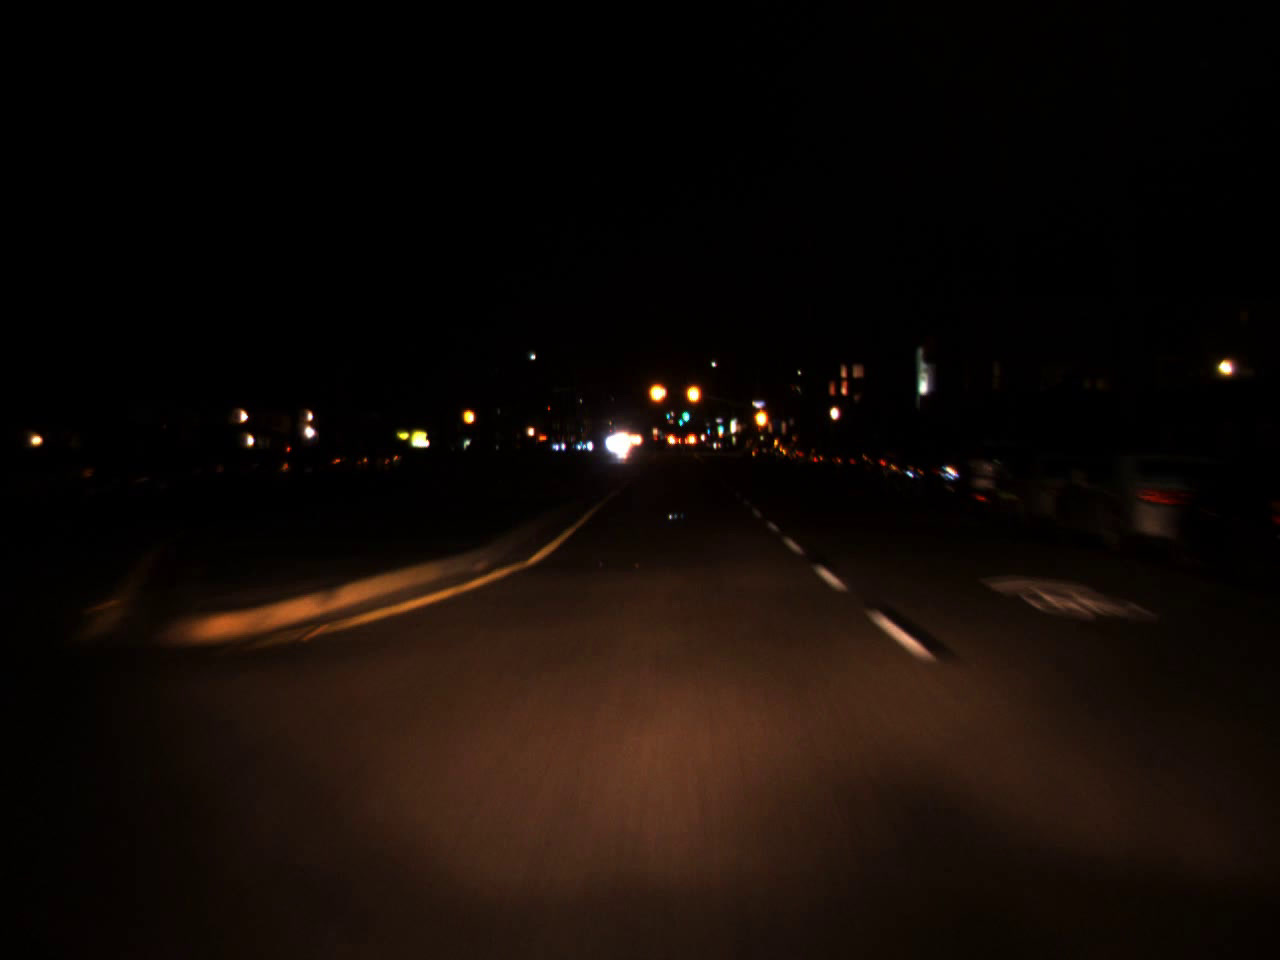go: (680, 397, 690, 427), (716, 419, 723, 434)
warning: (646, 371, 667, 413), (750, 397, 771, 437), (683, 373, 702, 413), (461, 402, 476, 429)
